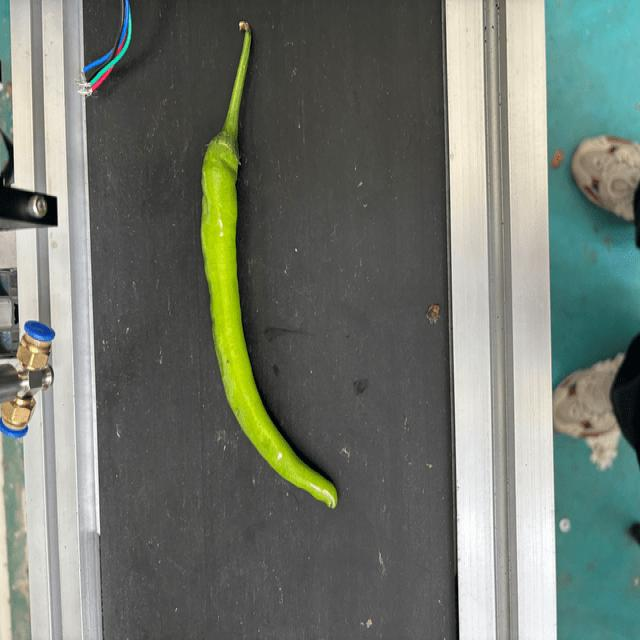chili: (200, 127, 339, 511)
